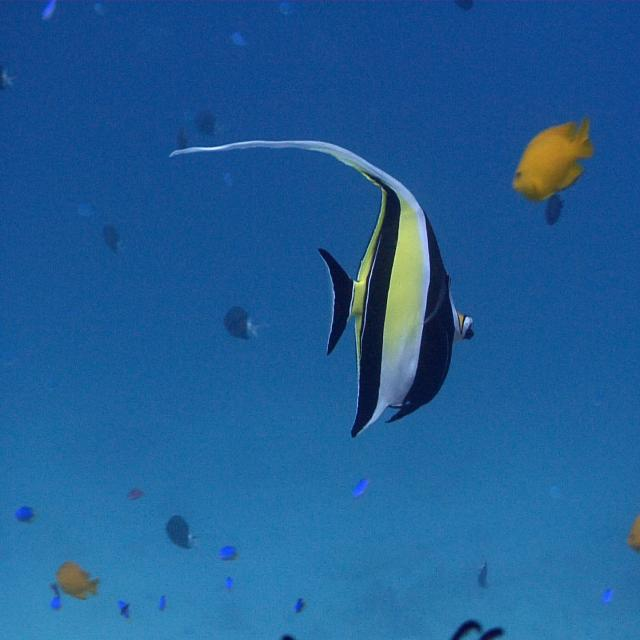MorishIdol: (168, 128, 475, 440)
